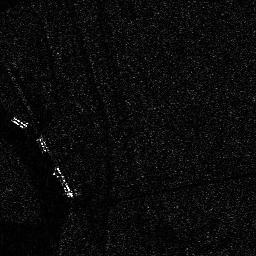ship: (51, 166, 74, 198), (10, 115, 28, 128), (36, 135, 49, 153)
